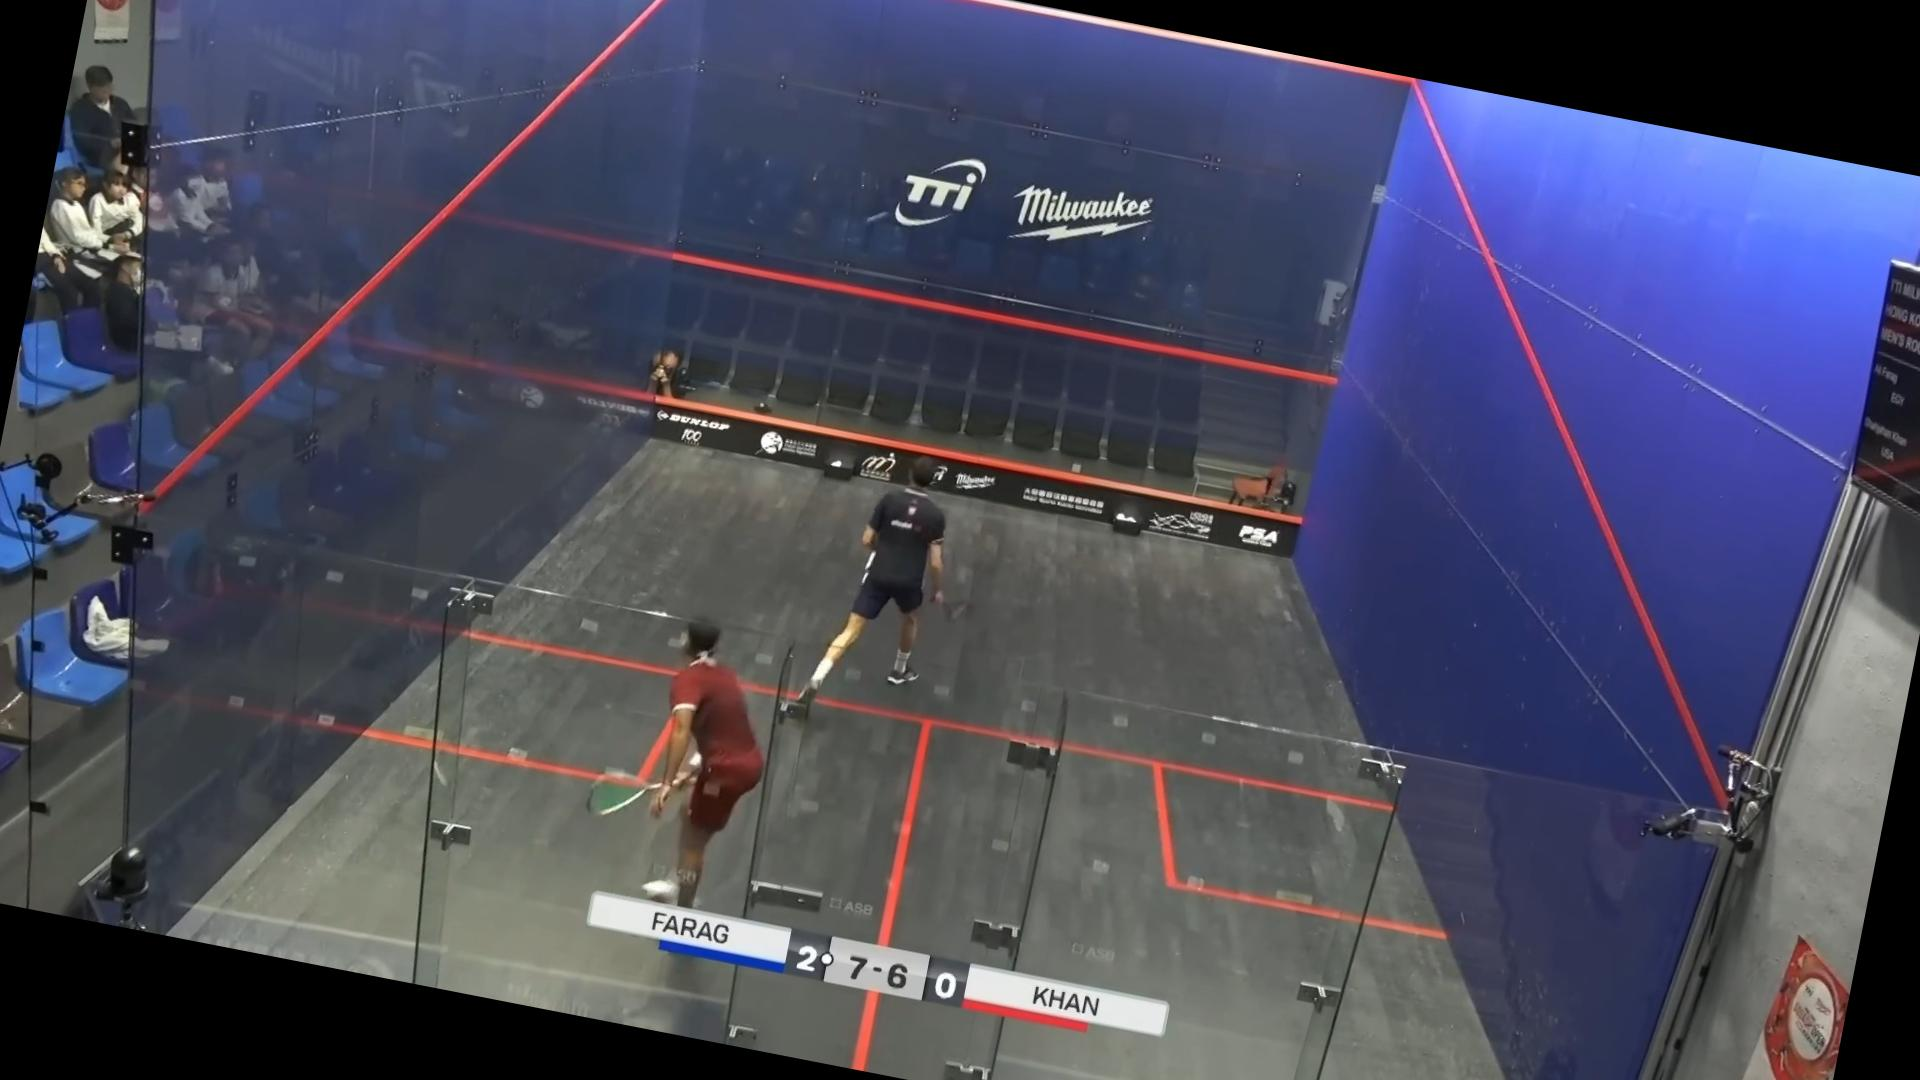Racket: (578, 766, 663, 828)
